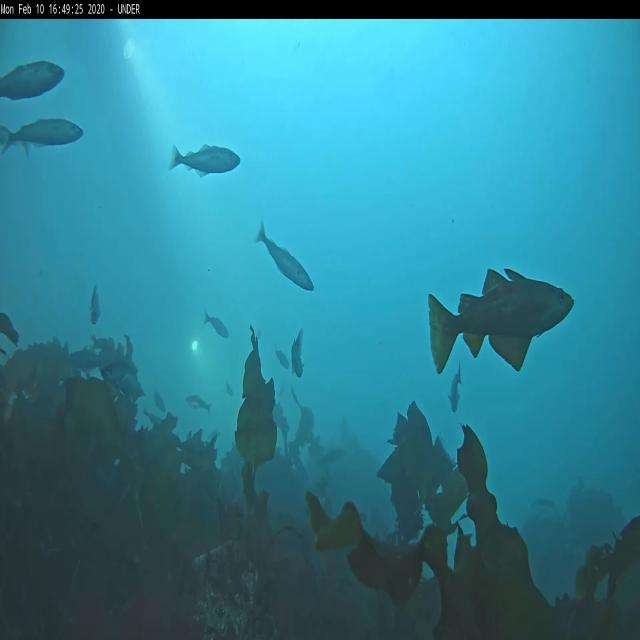fish: (428, 266, 576, 374), (255, 223, 316, 293), (0, 60, 69, 101), (0, 121, 85, 154), (169, 143, 242, 177), (446, 362, 464, 415), (288, 328, 306, 379), (204, 309, 228, 339), (187, 394, 210, 414), (274, 344, 290, 369), (142, 408, 162, 426), (153, 390, 166, 410)
